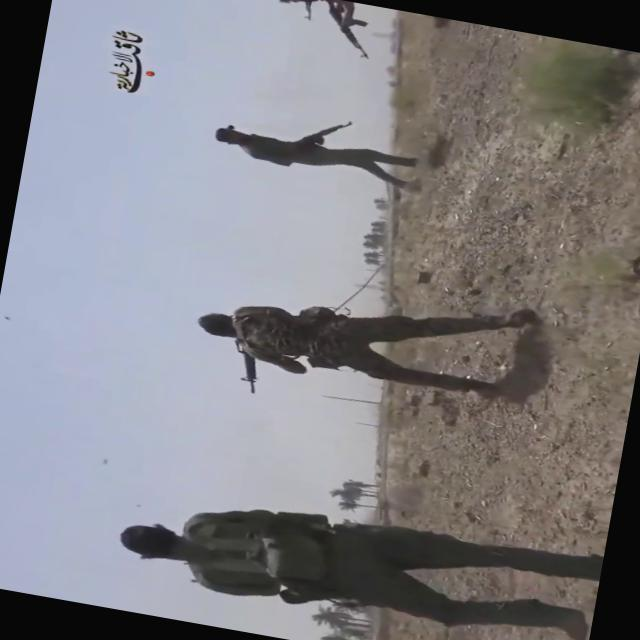long weapon: (210, 330, 275, 399)
